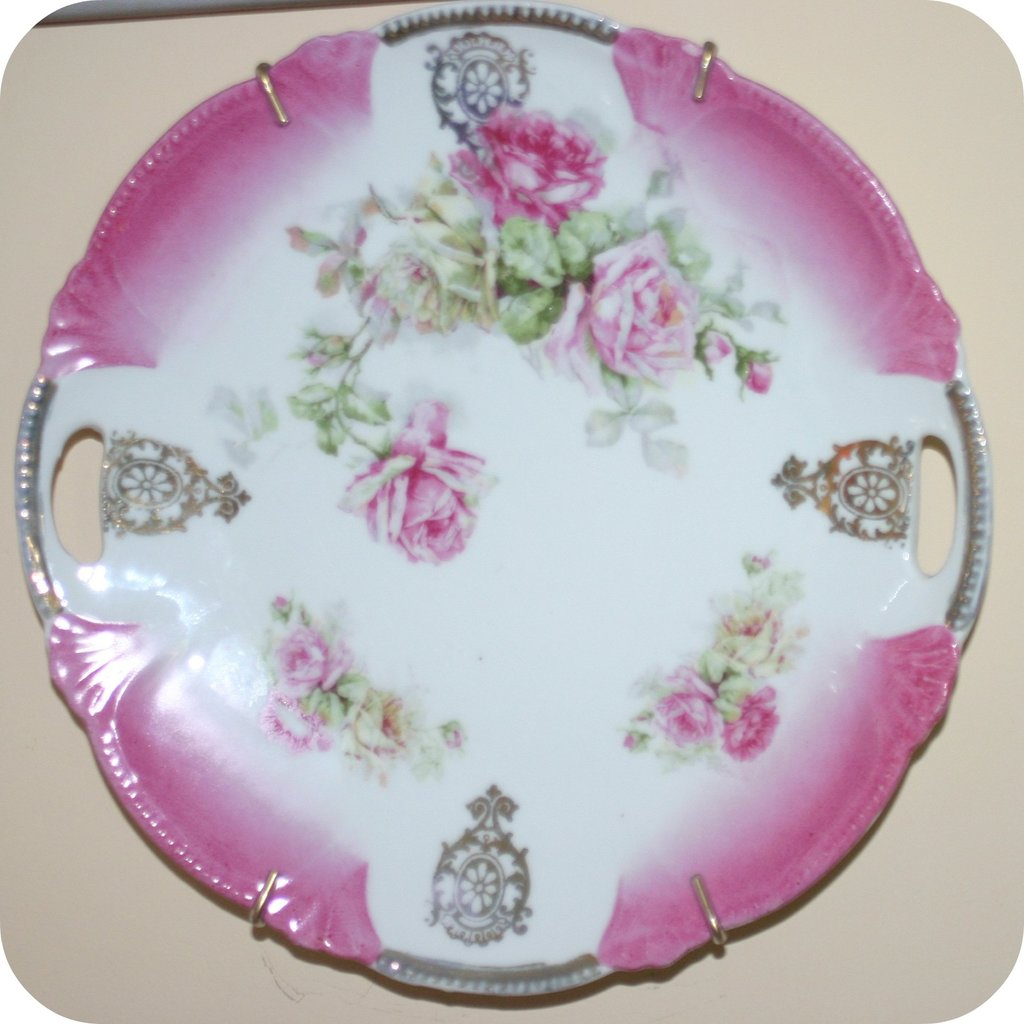plate: (14, 0, 992, 995)
